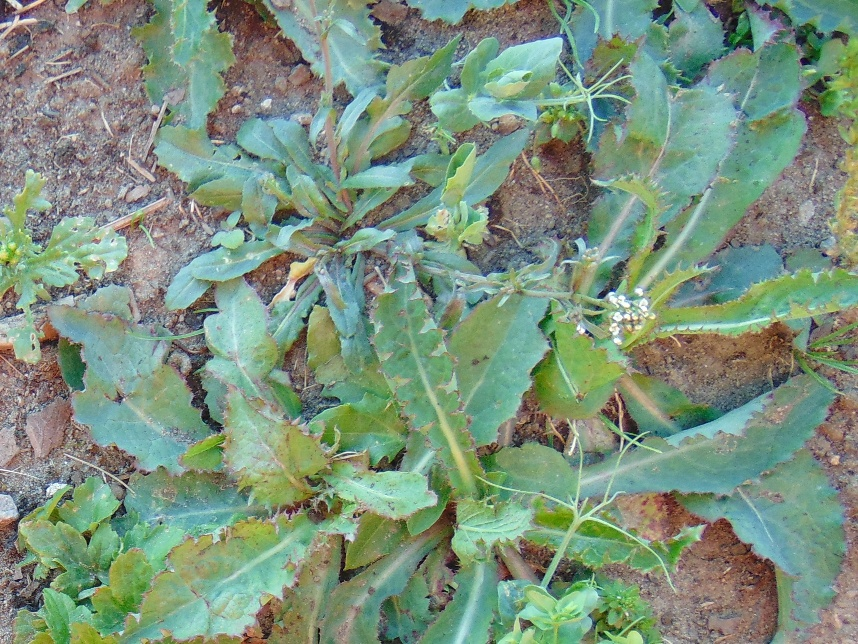crop: (494, 467, 647, 644), (428, 36, 619, 133), (430, 140, 500, 255)
weed: (142, 1, 852, 644), (1, 160, 858, 644)
